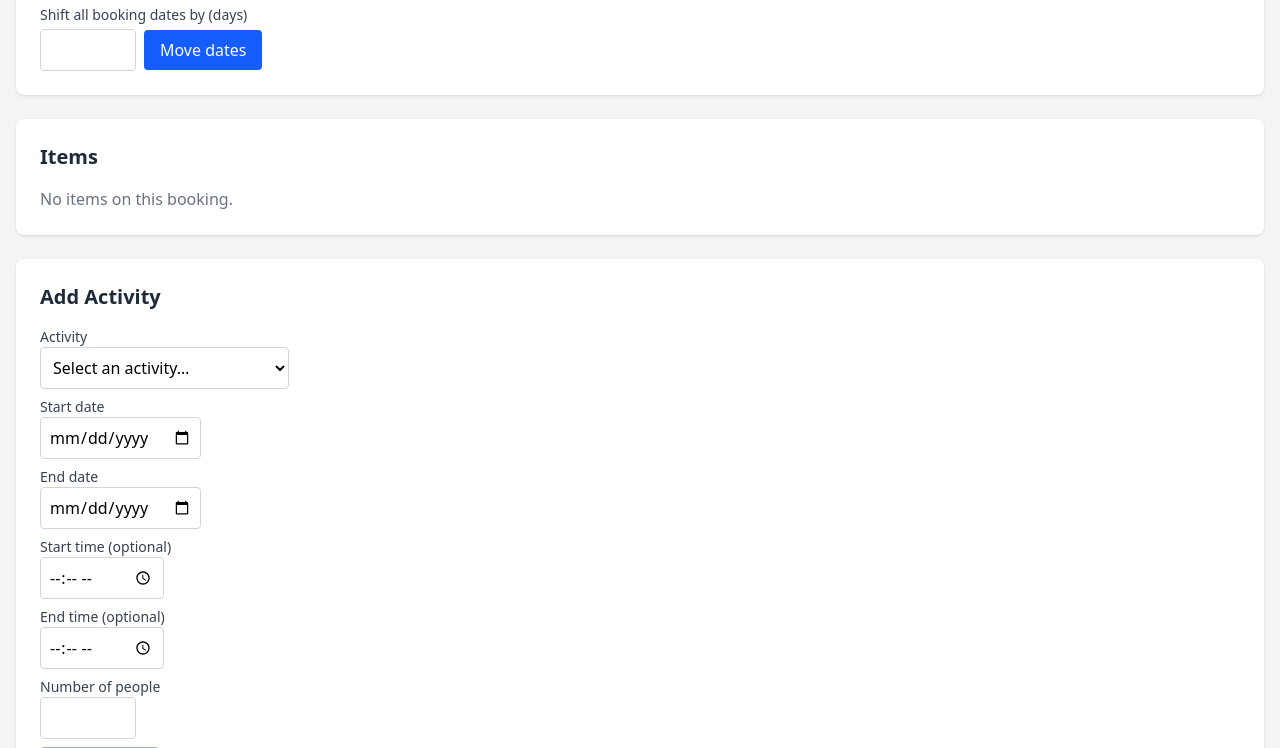
add-activity action › submits a new activity after confirmation and shows a success banner
(page scrolled)
Select "ACTIVITY - Archery" in the dropdown labelled "Activity" at (164, 368), box top-left (40, 347), bottom-right (289, 389)
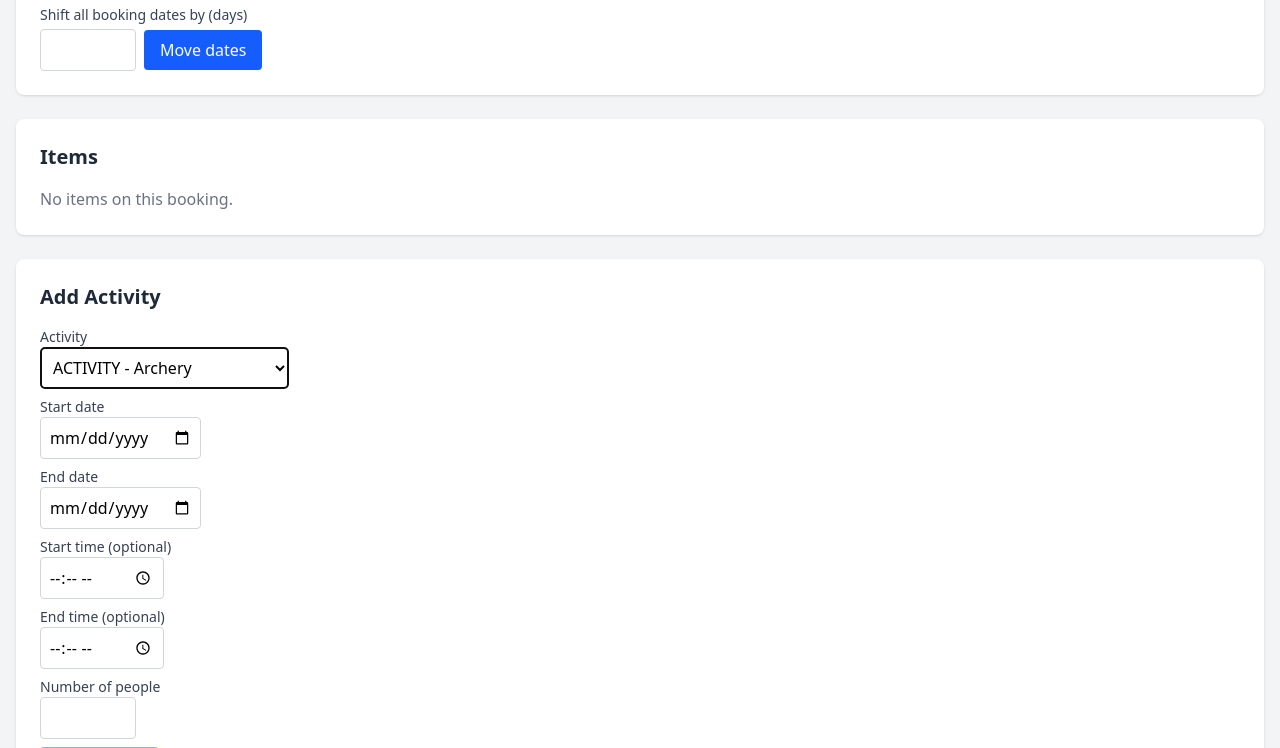
Type "2027-12-04" into the date field labelled "Start date" at (120, 438), box top-left (40, 417), bottom-right (201, 459)
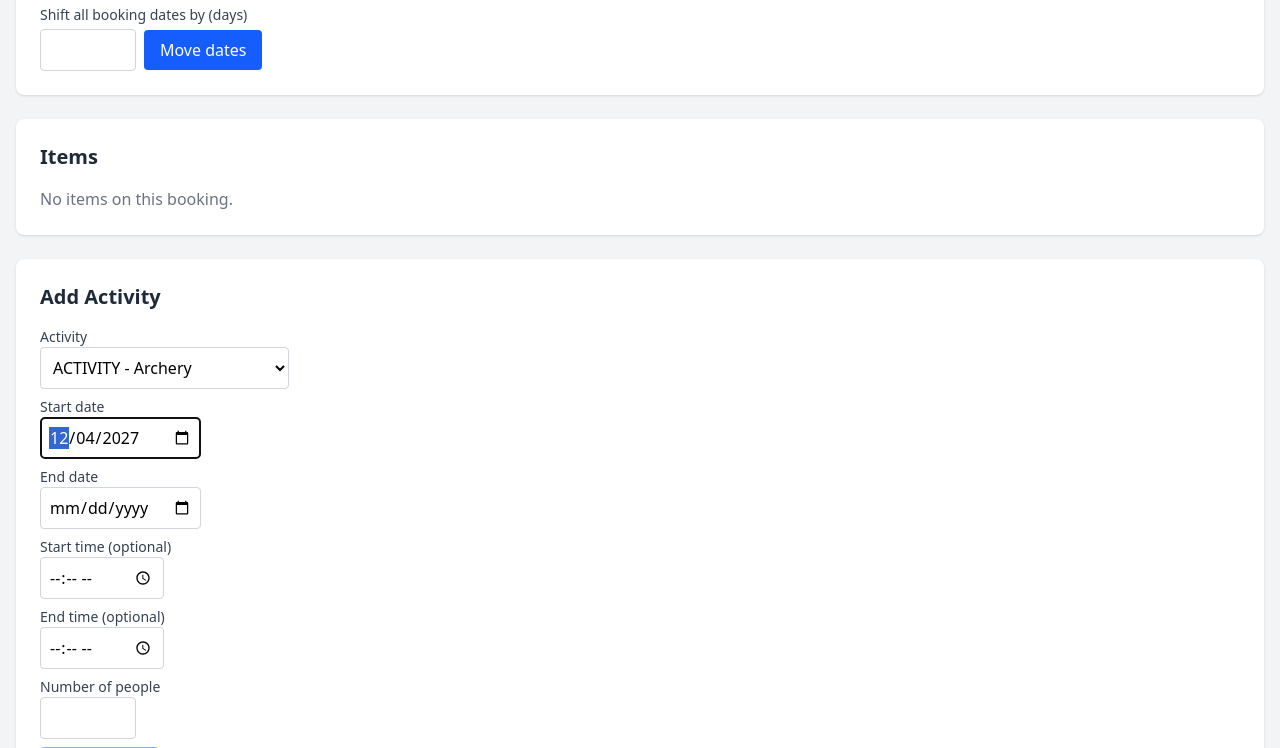
Type "2027-12-04" into the date field labelled "End date" at (120, 508), box top-left (40, 487), bottom-right (201, 529)
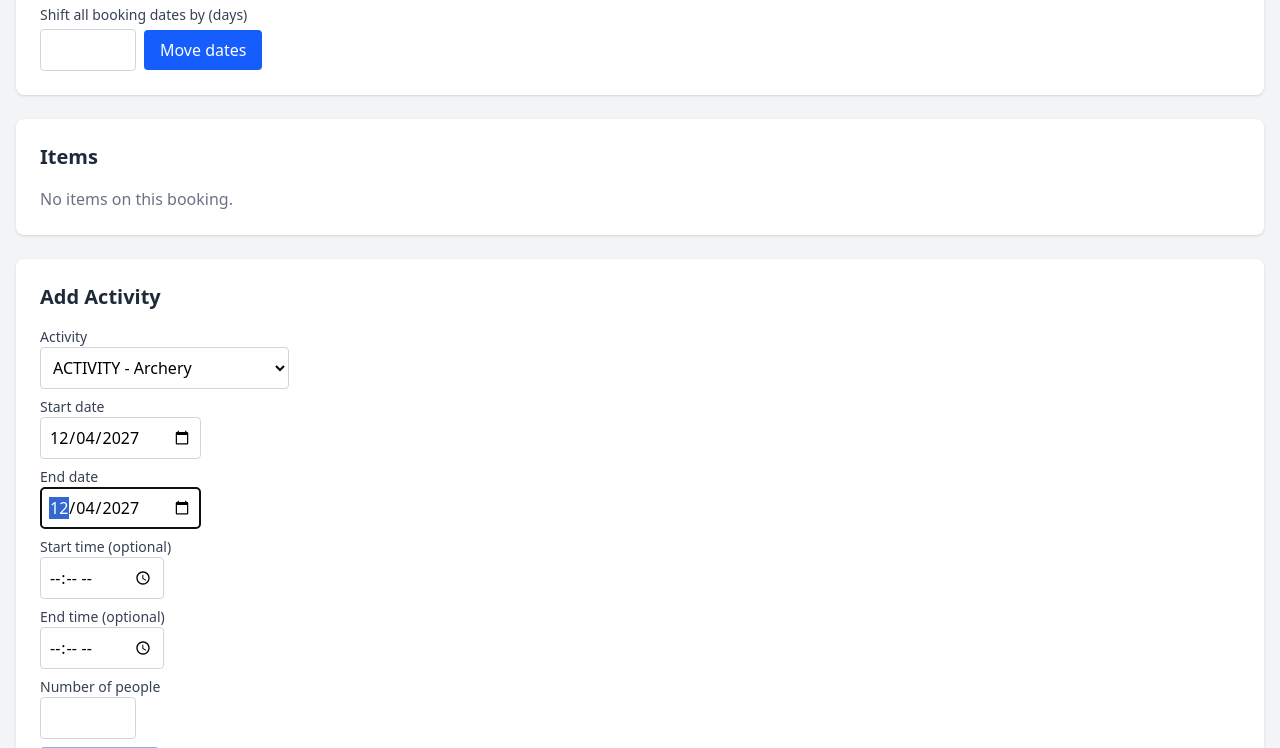
Type "8" into the number field labelled "Number of people" at (88, 718), box top-left (40, 697), bottom-right (136, 739)
(page scrolled)
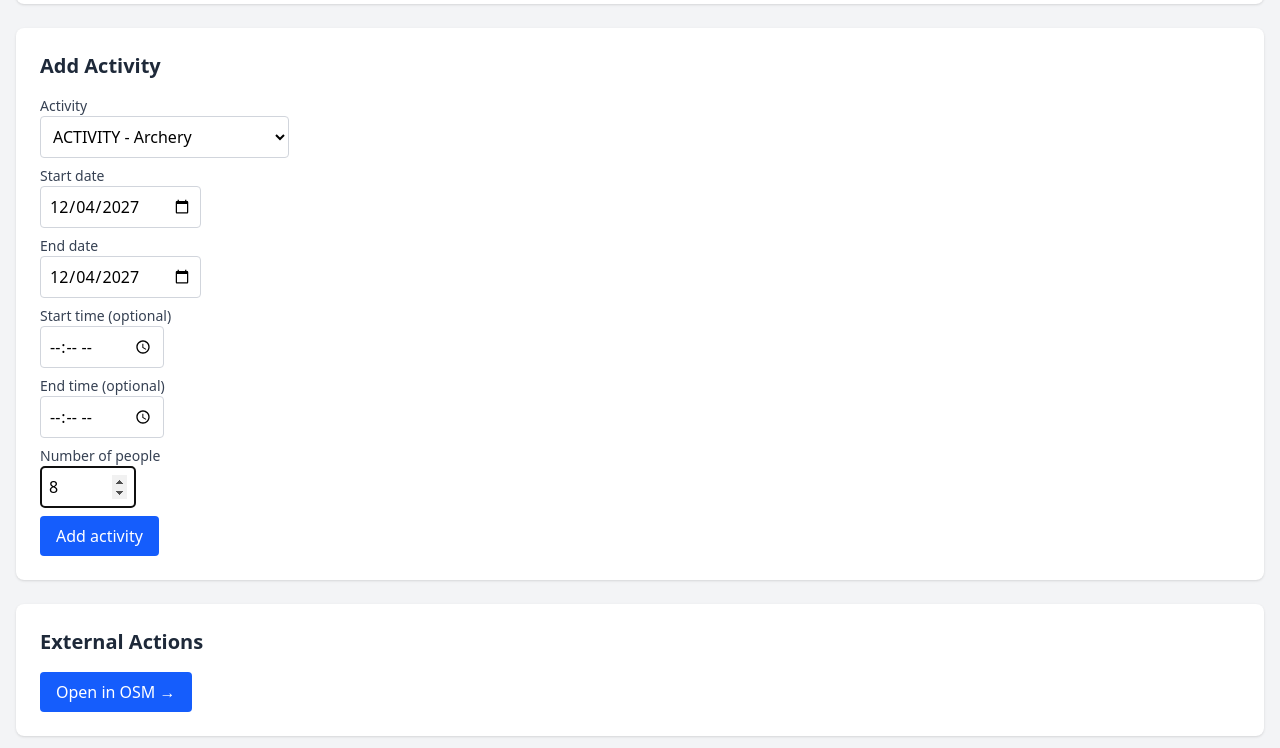
Click the button "Add activity" at (99, 536), box top-left (40, 516), bottom-right (159, 556)
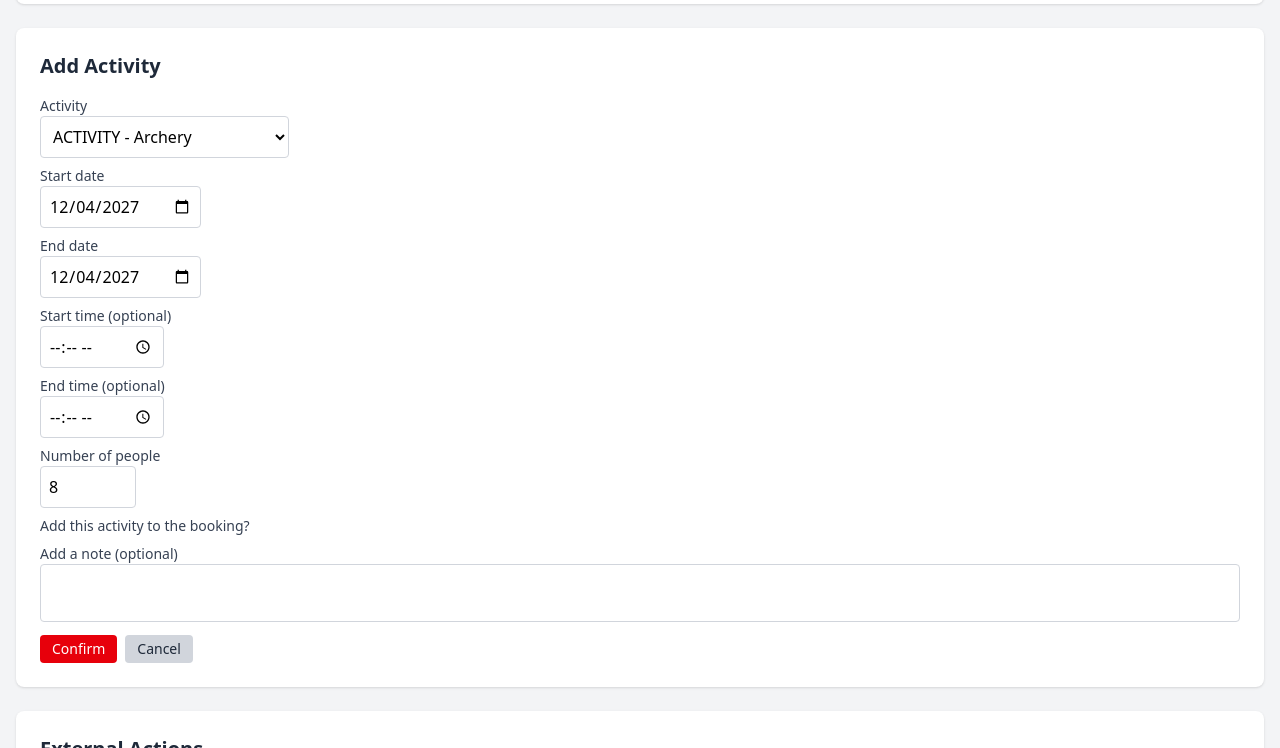
Click the button "Confirm" at (79, 649), box top-left (40, 635), bottom-right (117, 663)
(page scrolled)
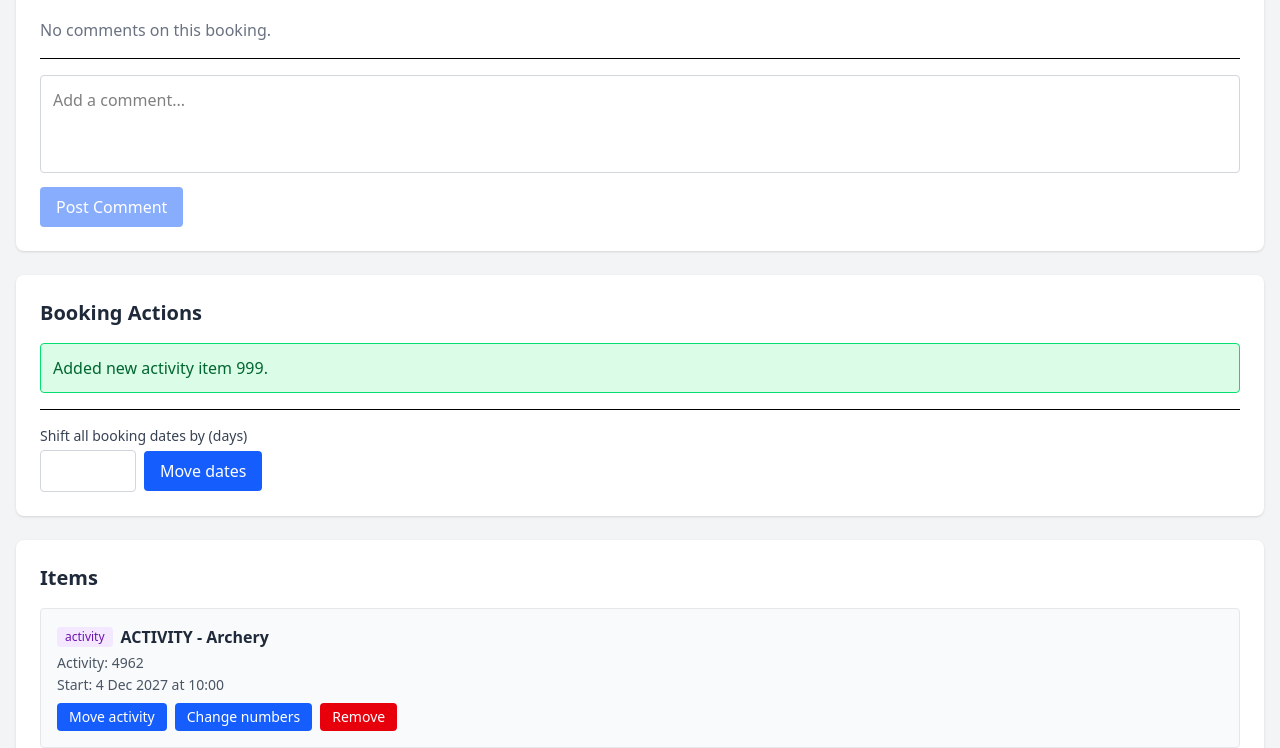
Result: the message shows "Added new activity" at top-left (53, 357), bottom-right (268, 379)
